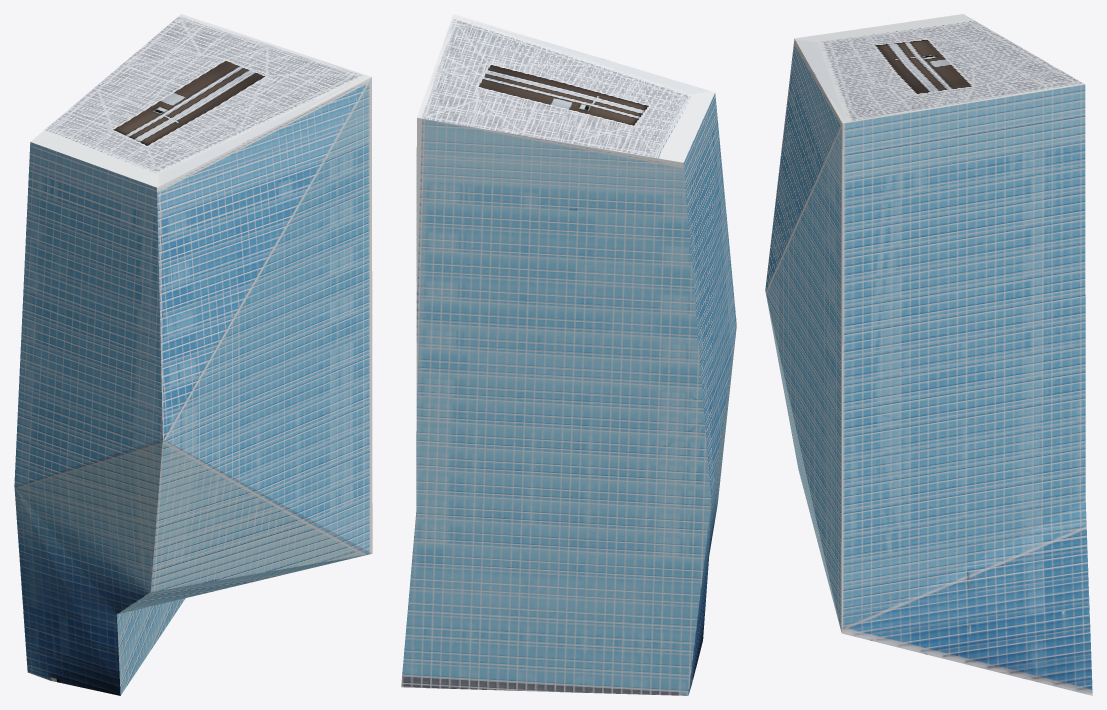
Rendered from 2.14-towerbnew.glb.
The picture shows the model from 3 angles, left to right: view 1: azimuth 30°, elevation 25°; view 2: azimuth 150°, elevation 25°; view 3: azimuth 270°, elevation 25°; orthographic projection. The views are drawn at different scales.
Visible parts, largest first — view 1: 2.14-B.001; view 2: 2.14-B.001; view 3: 2.14-B.001.
Boxes of the visible parts, bbox=[...] form: 2.14-B.001: bbox=[14, 14, 372, 695]; 2.14-B.001: bbox=[401, 14, 736, 695]; 2.14-B.001: bbox=[765, 14, 1092, 695].
Bounding box in the file's own units: 57.11 × 101 × 49.29.
1 material, 1 textured.
